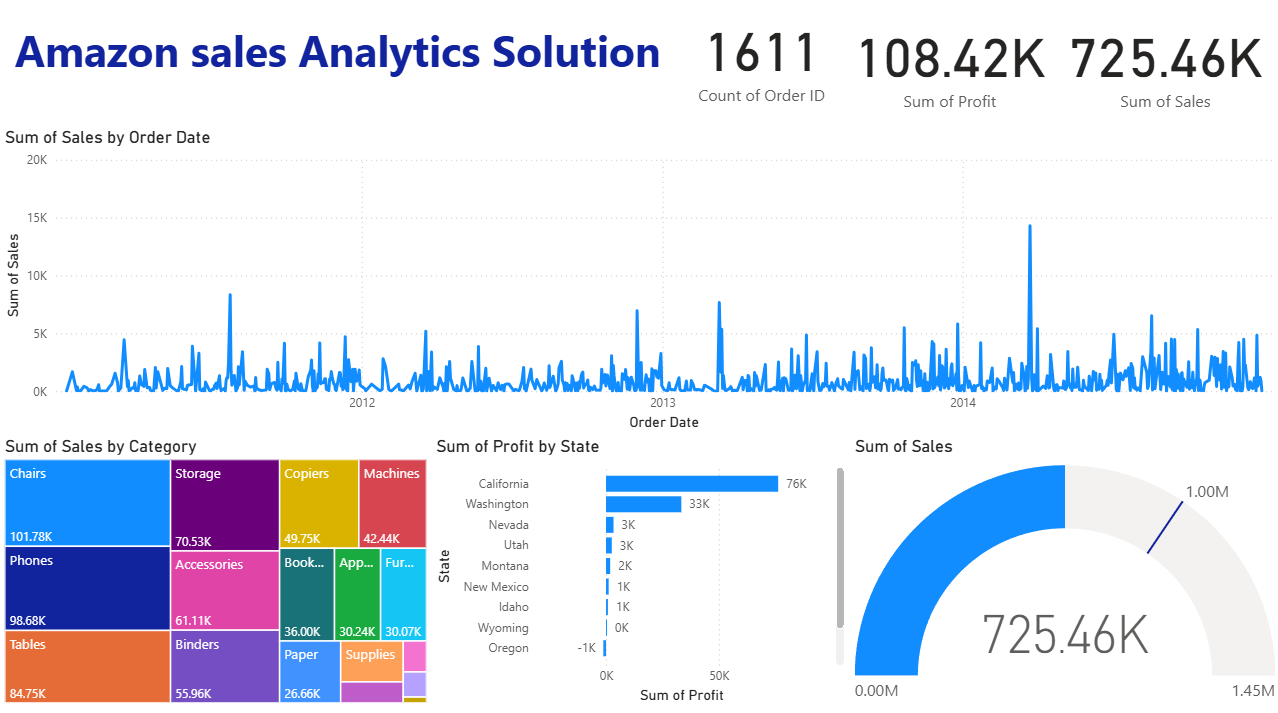

Layout of this report page (visuals, bound fields, positions):
{"tool":"powerbi","page":{"name":"Page 1","canvas":[1280,720],"ordinal":0},"visuals":[{"type":"card","fields":{"Values":["Sum(Walmart.Sales)"]},"box":[1051.2,0,228.8,128.8],"z":0},{"type":"card","fields":{"Values":["Sum(Walmart.Profit)"]},"box":[848.8,0,202.5,128.8],"z":1000},{"type":"card","fields":{"Values":["Count(Walmart.Order ID)"]},"box":[675,0,173.8,116.2],"z":2000},{"type":"lineChart","fields":{"Category":["Walmart.Order Date"],"Y":["Sum(Walmart.Sales)"]},"box":[0,129.4,1280,308.5],"z":3000},{"type":"treemap","fields":{"Group":["Walmart.Category"],"Values":["Sum(Walmart.Sales)"]},"box":[0,437.9,431.7,272.4],"z":4000},{"type":"clusteredBarChart","fields":{"Category":["Walmart.State"],"Y":["Sum(Walmart.Profit)"]},"box":[431.7,437.9,418,272.4],"z":5000},{"type":"gauge","fields":{"Y":["Sum(Walmart.Sales)"]},"box":[849.6,437.9,430.4,282.4],"z":5001},{"type":"textbox","box":[0,0,675.5,115.7],"z":5002}]}

Visuals, with their boxes in screenshot pixels (x1, y1, x2, y2), scaled from the page's 1280x720 canvas onto the 1278x713 screenshot:
card - Sum(Walmart.Sales): <bbox>1050, 0, 1277, 128</bbox>
card - Sum(Walmart.Profit): <bbox>847, 0, 1050, 128</bbox>
card - Count(Walmart.Order ID): <bbox>674, 0, 847, 115</bbox>
lineChart - Walmart.Order Date x Sum(Walmart.Sales): <bbox>0, 128, 1277, 434</bbox>
treemap - Walmart.Category x Sum(Walmart.Sales): <bbox>0, 434, 431, 703</bbox>
clusteredBarChart - Walmart.State x Sum(Walmart.Profit): <bbox>431, 434, 848, 703</bbox>
gauge - Sum(Walmart.Sales): <bbox>848, 434, 1277, 712</bbox>
textbox: <bbox>0, 0, 674, 115</bbox>
